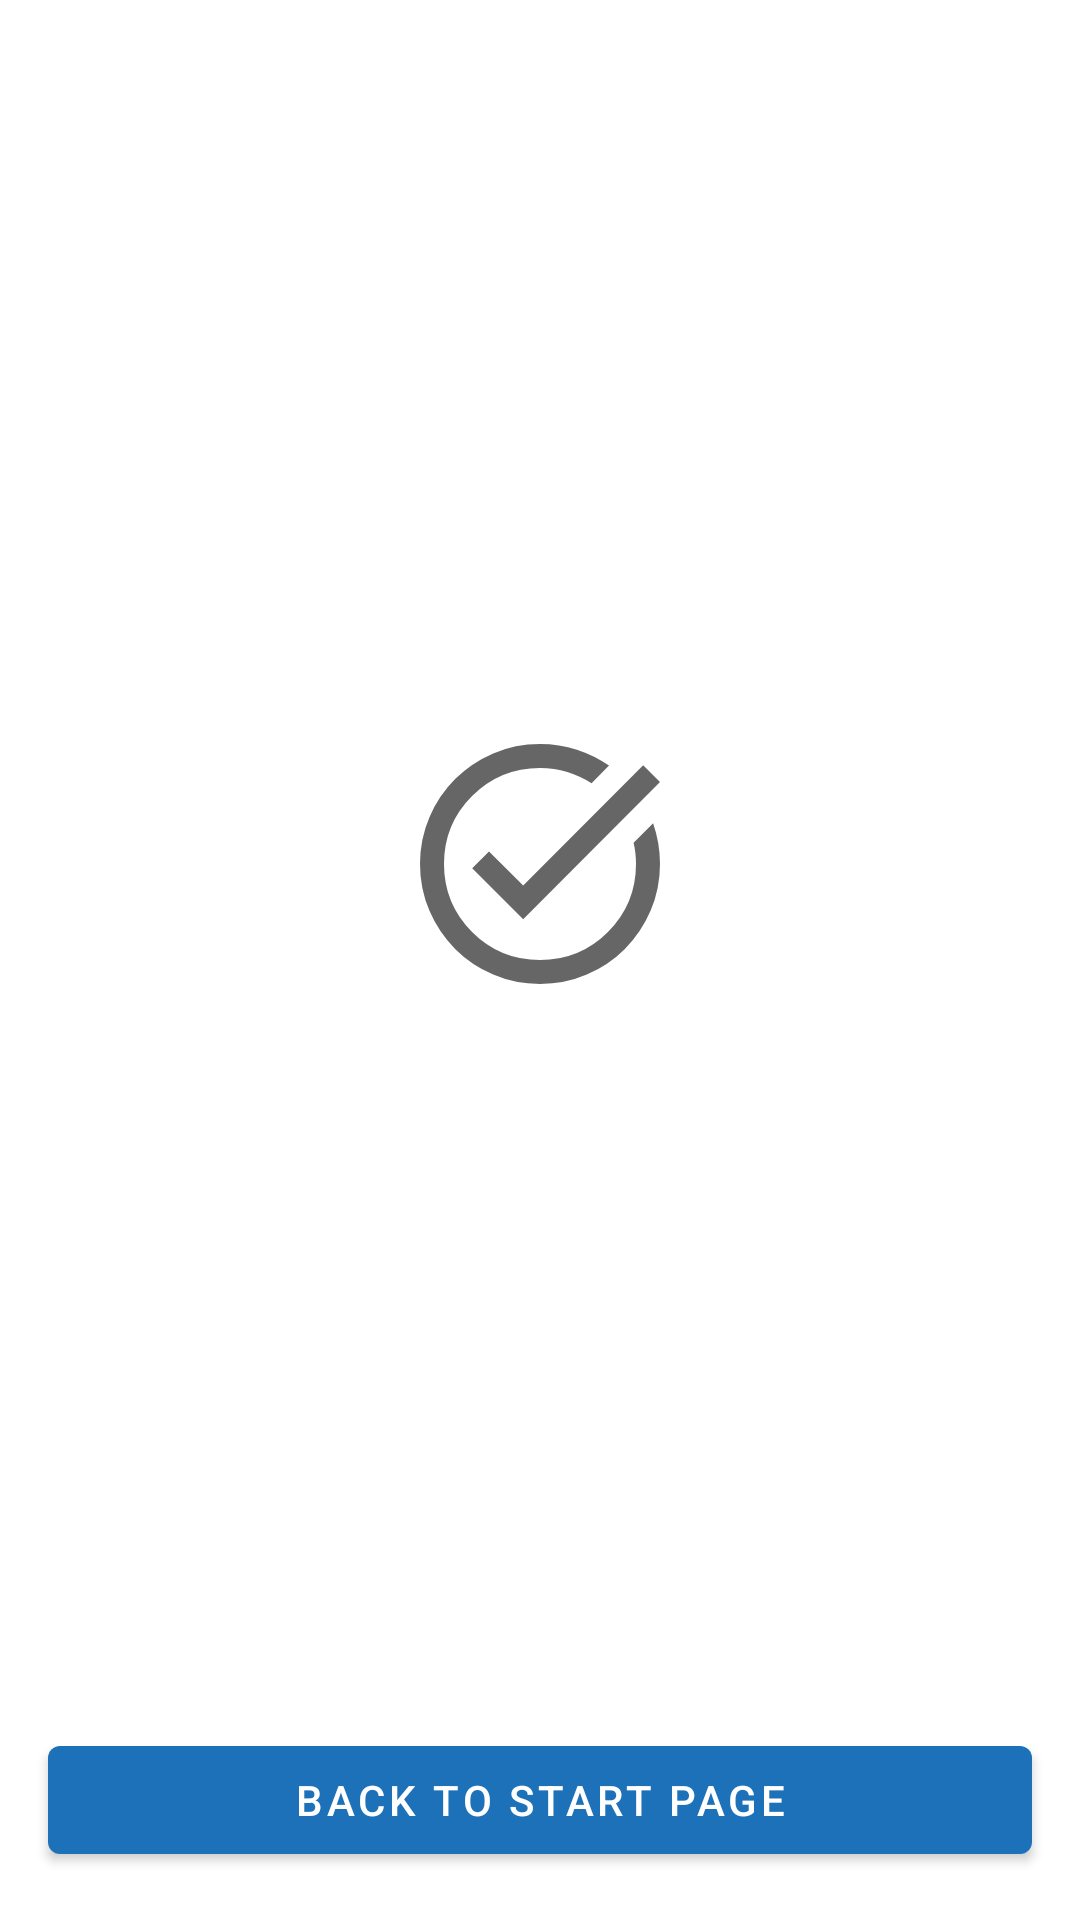

Named icons in this screenshot (1080px x 1920px) and their bounding boxes, (left=x1, top=y1, right=x2, bottom=y2):
done: (left=420, top=744, right=660, bottom=984)
